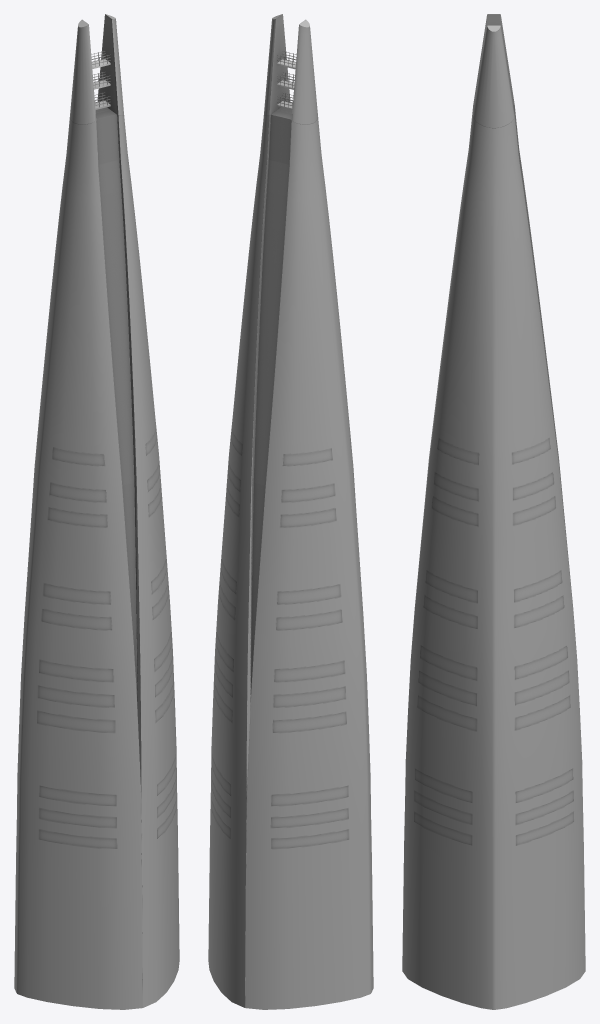
The model's file is LotteWorld_Tower.glb.
3 renders of one model, left to right at view 1: azimuth 30°, elevation 25°; view 2: azimuth 150°, elevation 25°; view 3: azimuth 270°, elevation 25°, orthographic.
Parts seen in each view (by area): view 1: Loft013, Loft014, Low; view 2: Loft013, Loft014, Low; view 3: Loft014, Low, Loft013.
Part boxes in pixels (x1,y1,x2,y2): Loft013: (14,117,142,1009); Loft014: (97,101,179,1007); Low: (70,14,136,693); Loft013: (245,117,373,1009); Loft014: (208,101,290,1007); Low: (251,14,317,693); Loft014: (402,116,585,1009); Low: (473,14,514,128); Loft013: (407,105,580,730).
Bounding box in the file's own units: 0.4626 × 2.65 × 0.4622.
5 materials, 5 textured.
